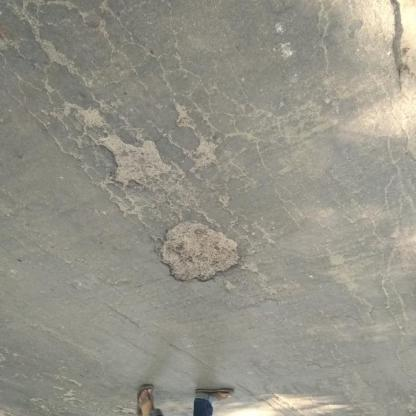pothole: (157, 222, 242, 286), (94, 137, 172, 189)
